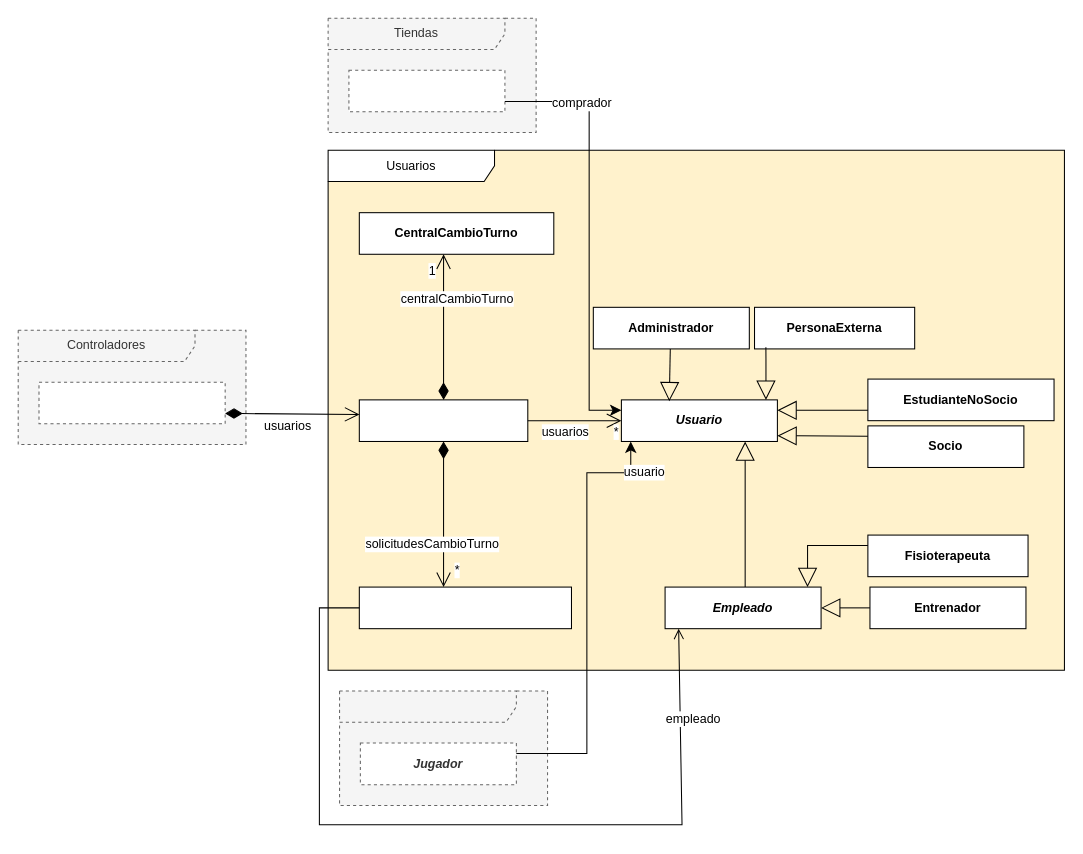
Some shapes in this 1083 by 854 pixel diagram are drawn without their labels. Each missing label, with the box of its shape:
CentralClubSeneca: (38, 381, 225, 424)
CentralUsuarios: (358, 399, 528, 441)
Jugadores: (339, 690, 548, 805)
SolicitudCambioTurno: (358, 586, 571, 629)
Venta: (348, 69, 505, 112)
